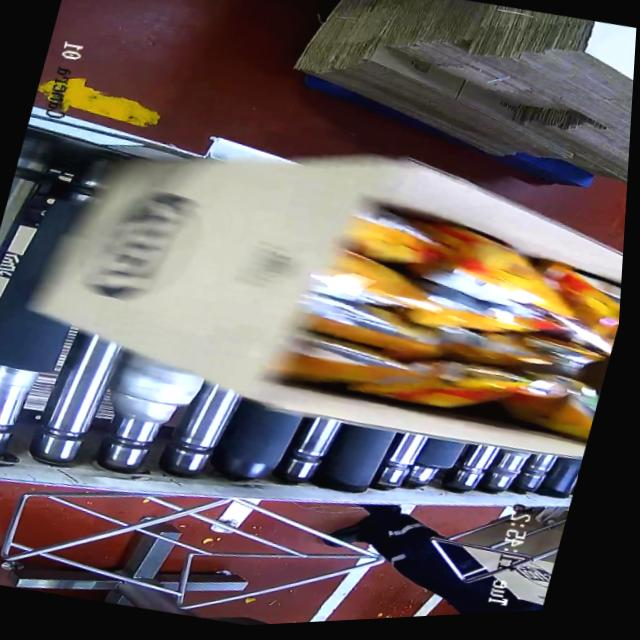FRENCH_CHEESE: (276, 164, 628, 457)
